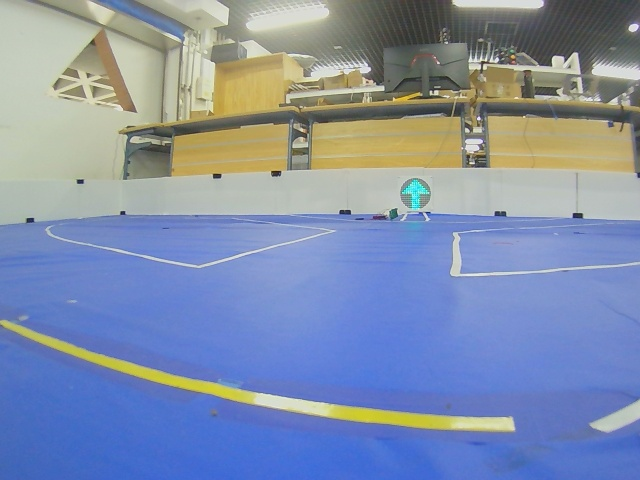straight_green: (400, 178, 431, 211)
